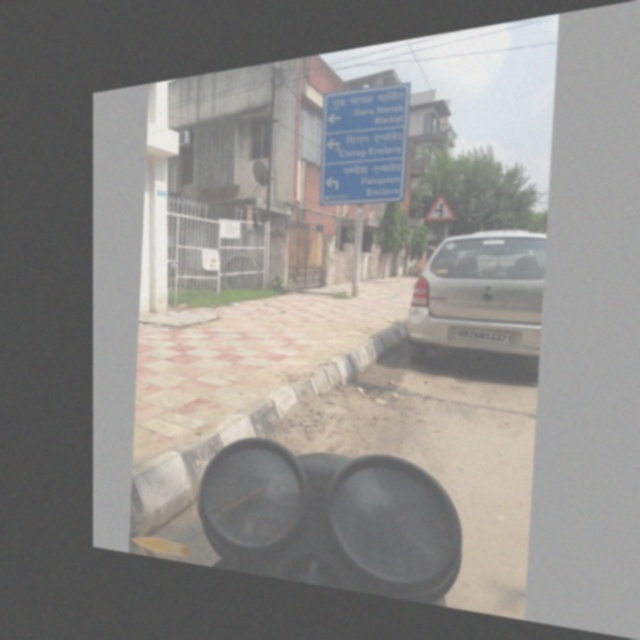Side_Road_Left: (419, 185, 460, 225)
